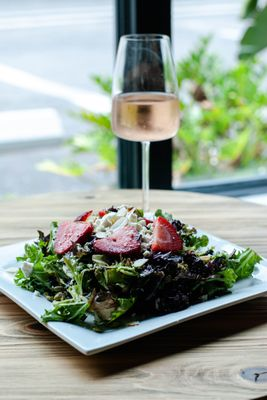sandwich: (111, 33, 182, 191)
